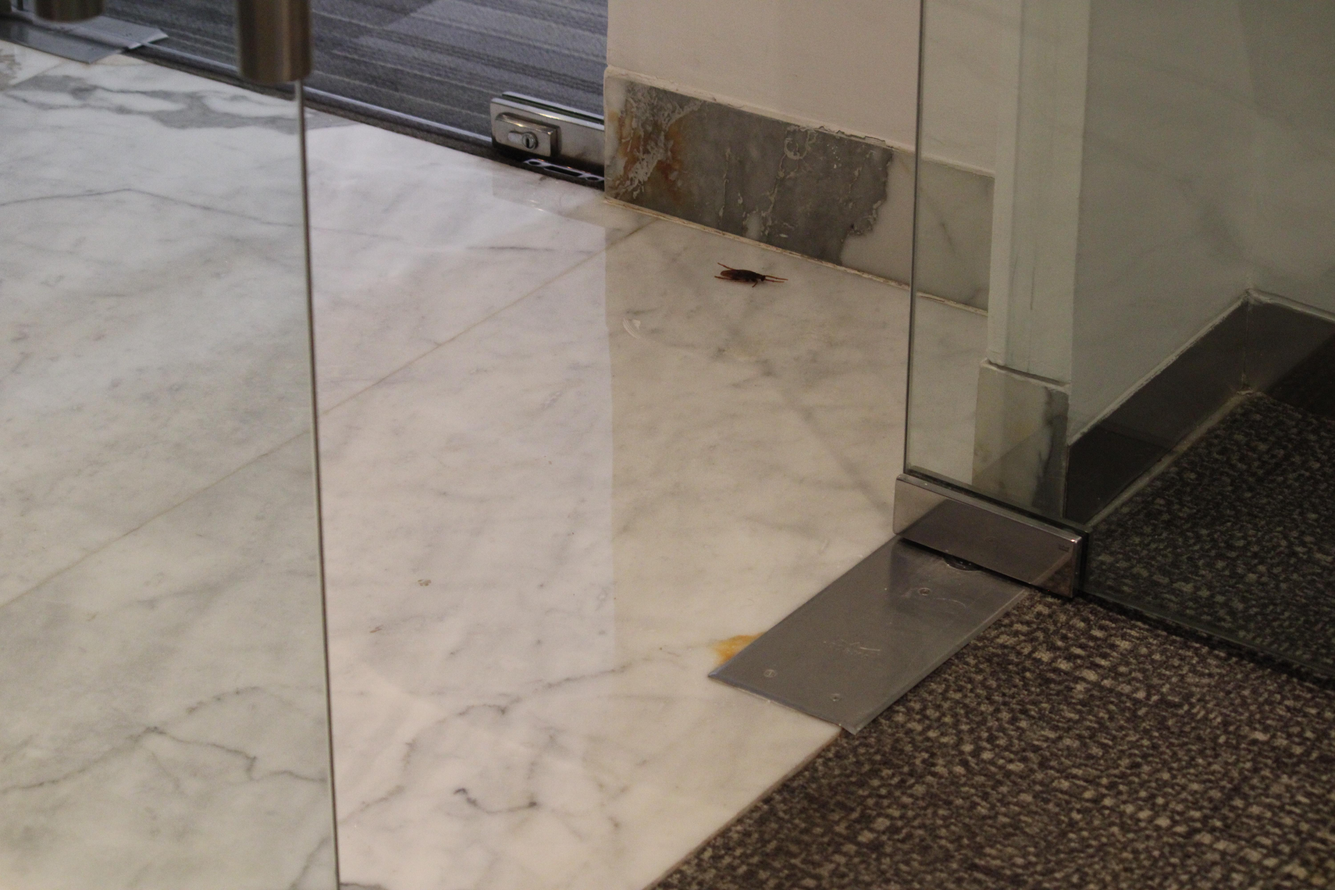cockroach: (710, 254, 777, 289)
